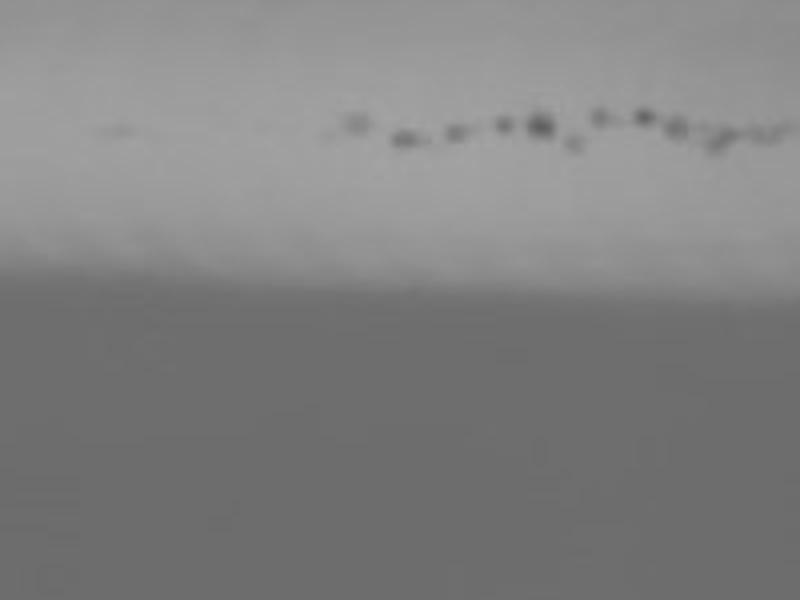defect: (749, 115, 788, 146), (704, 128, 740, 159), (90, 122, 138, 141), (527, 112, 559, 139), (663, 114, 692, 143), (343, 110, 373, 137), (632, 100, 654, 131), (563, 133, 592, 156), (390, 131, 429, 148), (489, 112, 518, 134), (443, 125, 474, 144), (587, 108, 609, 127), (319, 129, 340, 147), (694, 116, 712, 135)
